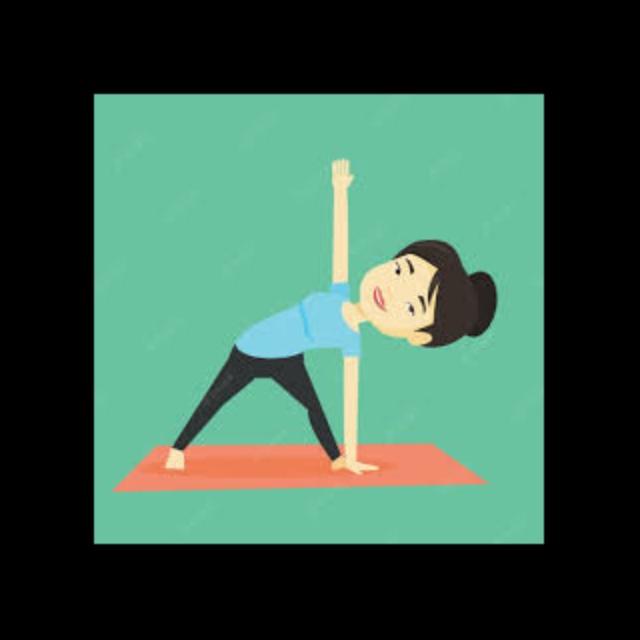Triangle_Pose: (148, 148, 500, 477)
